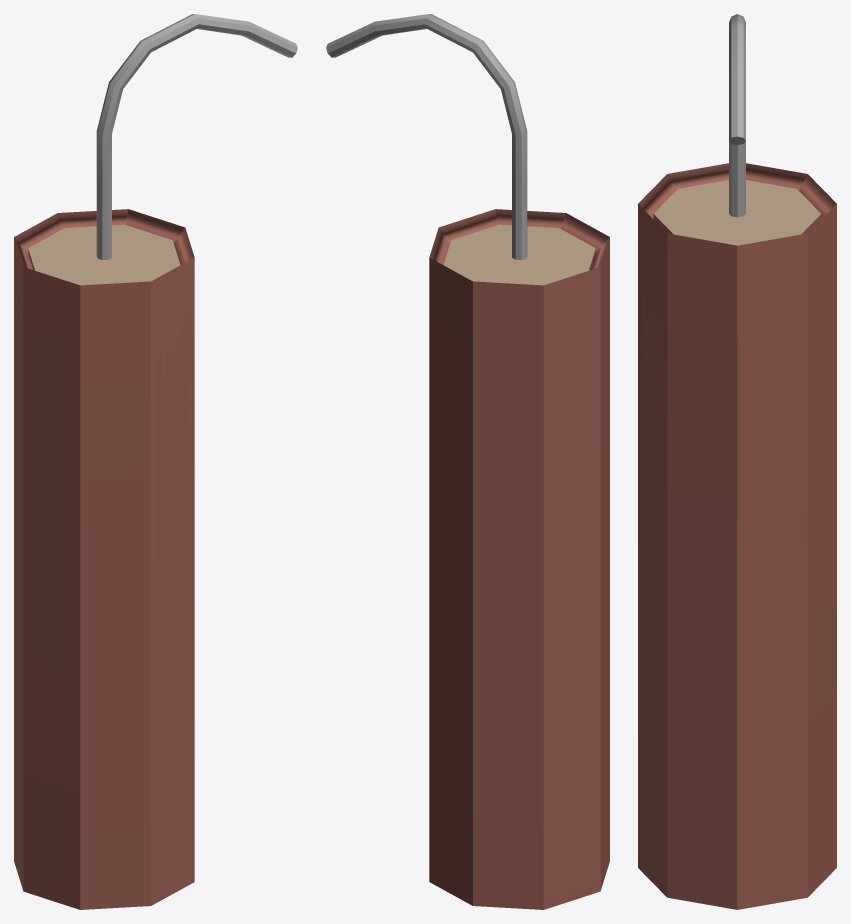
The model's file is Dynamite.fbx.
3 views of the same model, side by side, from view 1: azimuth 30°, elevation 25°; view 2: azimuth 150°, elevation 25°; view 3: azimuth 270°, elevation 25° (orthographic). The views are drawn at different scales.
Parts seen in each view (by area): view 1: pCylinder5; view 2: pCylinder5; view 3: pCylinder5.
Boxes of the visible parts, x1,y1,x2,y2 form: pCylinder5: (14, 14, 297, 909); pCylinder5: (326, 14, 609, 909); pCylinder5: (638, 14, 836, 909).
Bounding box in the file's own units: 3.37 × 9.87 × 2.
